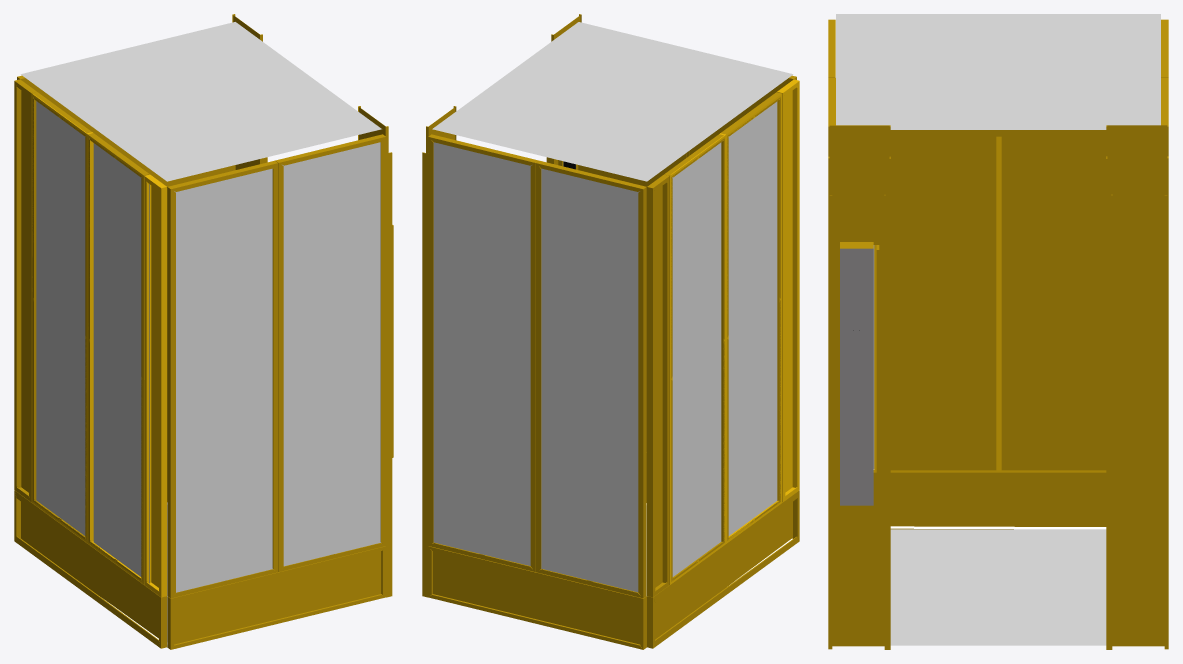
The model's file is Gold.gltf.
3 renders of one model, left to right at view 1: azimuth 30°, elevation 25°; view 2: azimuth 150°, elevation 25°; view 3: azimuth 270°, elevation 25°, orthographic. The views are drawn at different scales.
Parts seen in each view (by area): view 1: Plane.021, Plane.019, Plane.011, Plane.024, Plane.025, Plane.004, Plane.006, Plane.010, Plane.003, Plane, Plane.002, Plane.016 (+4 smaller); view 2: Plane.022, Plane.023, Plane.011, Plane.024, Plane.025, Plane.007, Plane, Plane.010, Plane.006, Plane.008, Plane.001, Plane.005 (+4 smaller); view 3: Plane.016, Plane.011, Plane.005, Plane.014, Plane.015, Plane.013, Plane.010, Plane.034, Plane.012, Vert.
Part boxes in pixels (bbox=[...]): Plane.021: bbox=[282, 142, 380, 566]; Plane.019: bbox=[174, 168, 272, 592]; Plane.011: bbox=[20, 22, 381, 181]; Plane.024: bbox=[36, 101, 85, 535]; Plane.025: bbox=[93, 143, 149, 583]; Plane.004: bbox=[167, 546, 385, 649]; Plane.006: bbox=[144, 174, 166, 597]; Plane.010: bbox=[14, 490, 166, 648]; Plane.003: bbox=[167, 160, 278, 598]; Plane: bbox=[14, 79, 36, 501]; Plane.002: bbox=[275, 134, 386, 571]; Plane.016: bbox=[87, 133, 149, 584]; Plane.022: bbox=[433, 142, 531, 565]; Plane.023: bbox=[541, 168, 639, 592]; Plane.011: bbox=[432, 22, 793, 181]; Plane.024: bbox=[672, 142, 721, 576]; Plane.025: bbox=[728, 101, 777, 535]; Plane.007: bbox=[428, 546, 646, 649]; Plane: bbox=[647, 174, 669, 597]; Plane.010: bbox=[647, 490, 799, 648]; Plane.006: bbox=[777, 79, 799, 502]; Plane.008: bbox=[536, 160, 646, 598]; Plane.001: bbox=[428, 134, 538, 571]; Plane.005: bbox=[664, 133, 726, 584]; Plane.016: bbox=[874, 136, 998, 472]; Plane.011: bbox=[836, 14, 1160, 129]; Plane.005: bbox=[998, 136, 1106, 472]; Plane.014: bbox=[1106, 125, 1168, 649]; Plane.015: bbox=[890, 529, 1106, 645]; Plane.013: bbox=[828, 125, 890, 649]; Plane.010: bbox=[873, 470, 1106, 529]; Plane.034: bbox=[840, 242, 873, 505]; Plane.012: bbox=[890, 130, 1106, 136]; Vert: bbox=[890, 526, 1106, 529].
Size of the model in its own units: 1.2 by 2.3 by 1.36.
